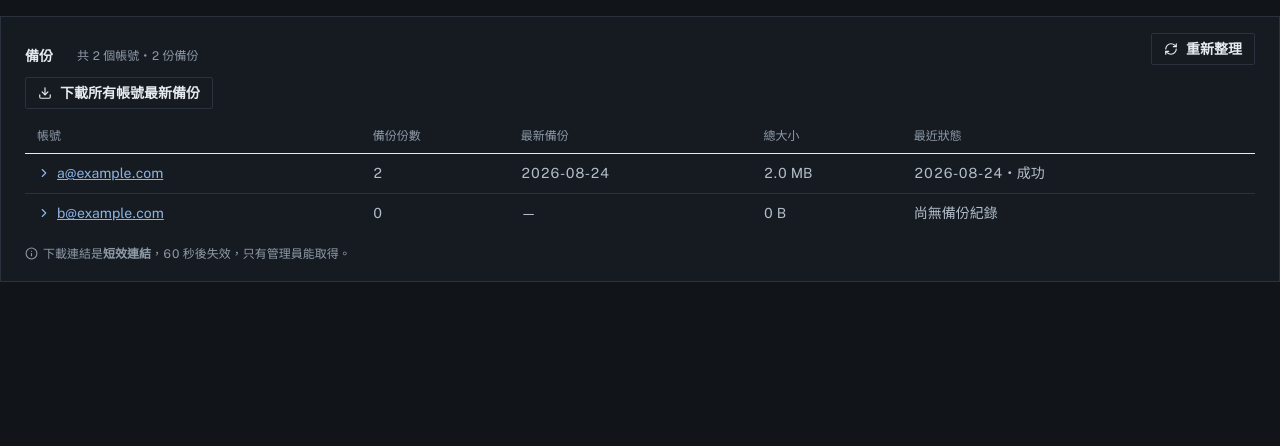
BackupsSection › 展開帳號後才列出檔案，且每個檔案都有下載按鈕
The width and height of the screenshot is (1280, 446).
Step 1. Click the button "a@example.com" → (100, 174), box [37, 163, 163, 184]
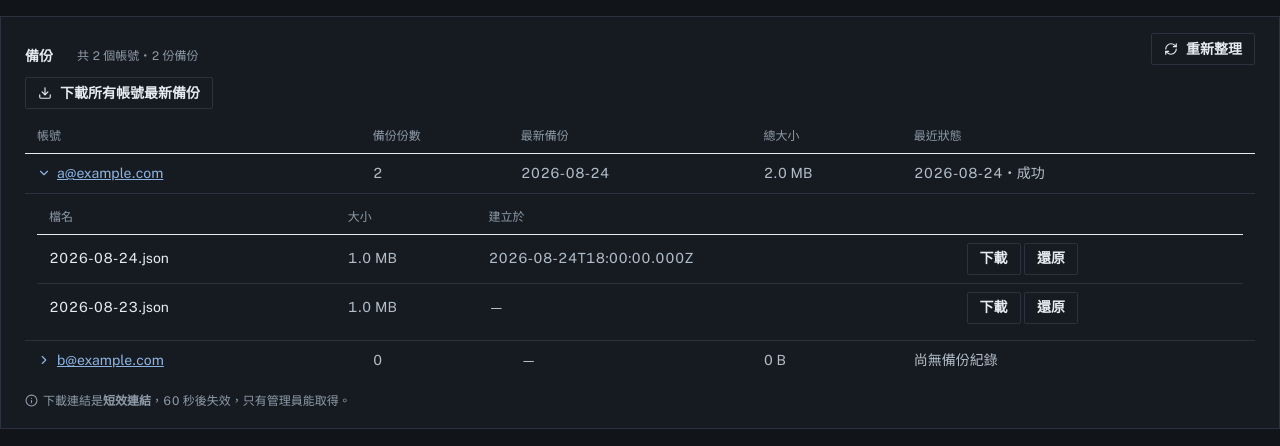
Expected: the button "a@example.com" is expanded, [37, 163, 163, 184]
Expected: the text "2026-08-24.json" is shown, [37, 234, 340, 284]
Expected: the text "2026-08-23.json" is shown, [37, 284, 340, 332]
